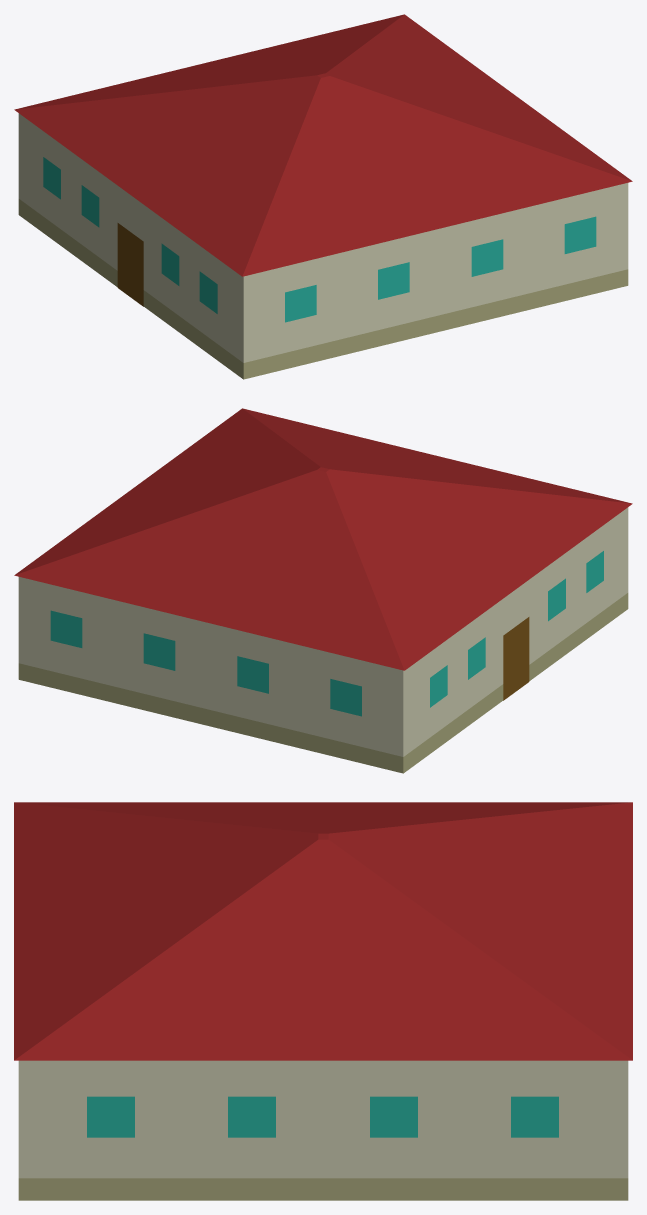
File: House4.fbx
The picture shows the model from 3 angles, top to bottom: view 1: azimuth 30°, elevation 25°; view 2: azimuth 150°, elevation 25°; view 3: azimuth 270°, elevation 25°; orthographic projection. The views are drawn at different scales.
Parts seen in each view (by area): view 1: House4; view 2: House4; view 3: House4.
Part boxes in pixels (bbox=[...]): House4: bbox=[14, 14, 632, 379]; House4: bbox=[14, 408, 632, 773]; House4: bbox=[14, 802, 632, 1200].
Size of the model in its own units: 347 by 148 by 351.
